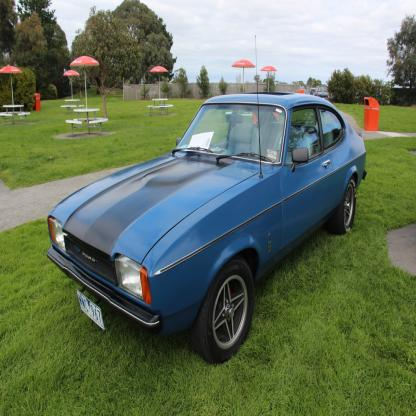Car: (47, 36, 368, 368)
